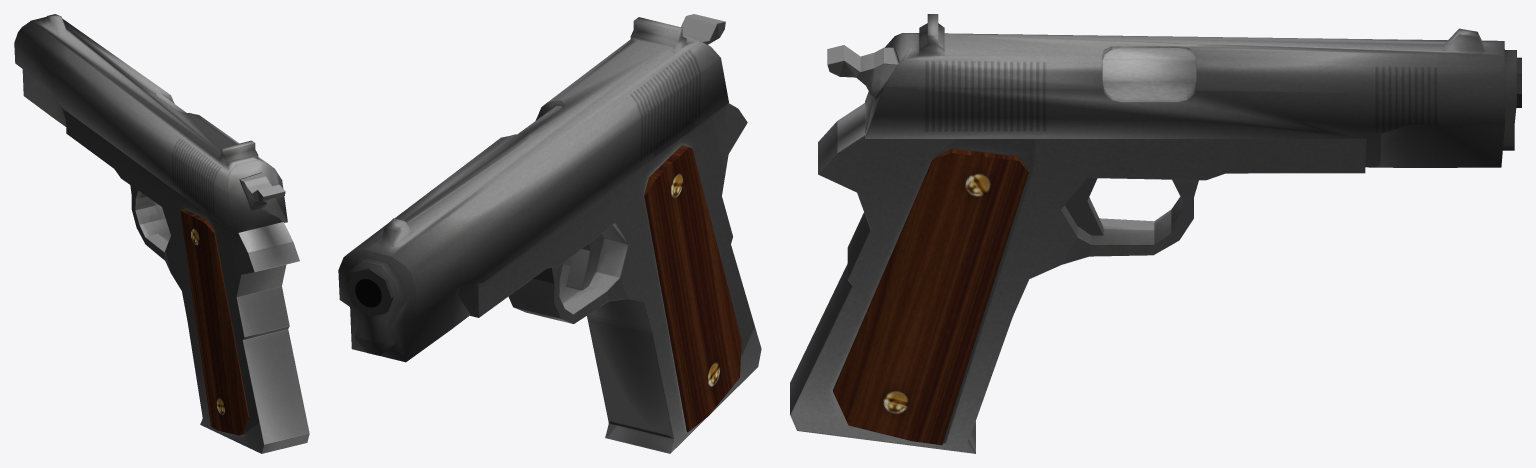
Rendered from colt.glb.
The picture shows the model from 3 angles, left to right: view 1: azimuth 30°, elevation 25°; view 2: azimuth 150°, elevation 25°; view 3: azimuth 270°, elevation 25°; orthographic projection. The views are drawn at different scales.
Parts seen in each view (by area): view 1: Handle, Top, Hammer; view 2: Handle, Top, Trigger, Hammer; view 3: Handle, Top, Hammer, Trigger.
Part boxes in pixels (box(x1,y1,x2,y2)): Handle: box(66, 111, 309, 453); Top: box(14, 14, 287, 234); Hammer: box(239, 172, 285, 208); Handle: box(346, 103, 761, 453); Top: box(338, 17, 728, 362); Trigger: box(566, 234, 603, 289); Hammer: box(681, 14, 725, 44); Handle: box(790, 57, 1521, 453); Top: box(865, 14, 1516, 167); Hammer: box(827, 45, 899, 98); Trigger: box(1065, 178, 1103, 235).
Bounding box in the file's own units: 0.3055 × 1.47 × 2.36.
1 material, 1 textured.
